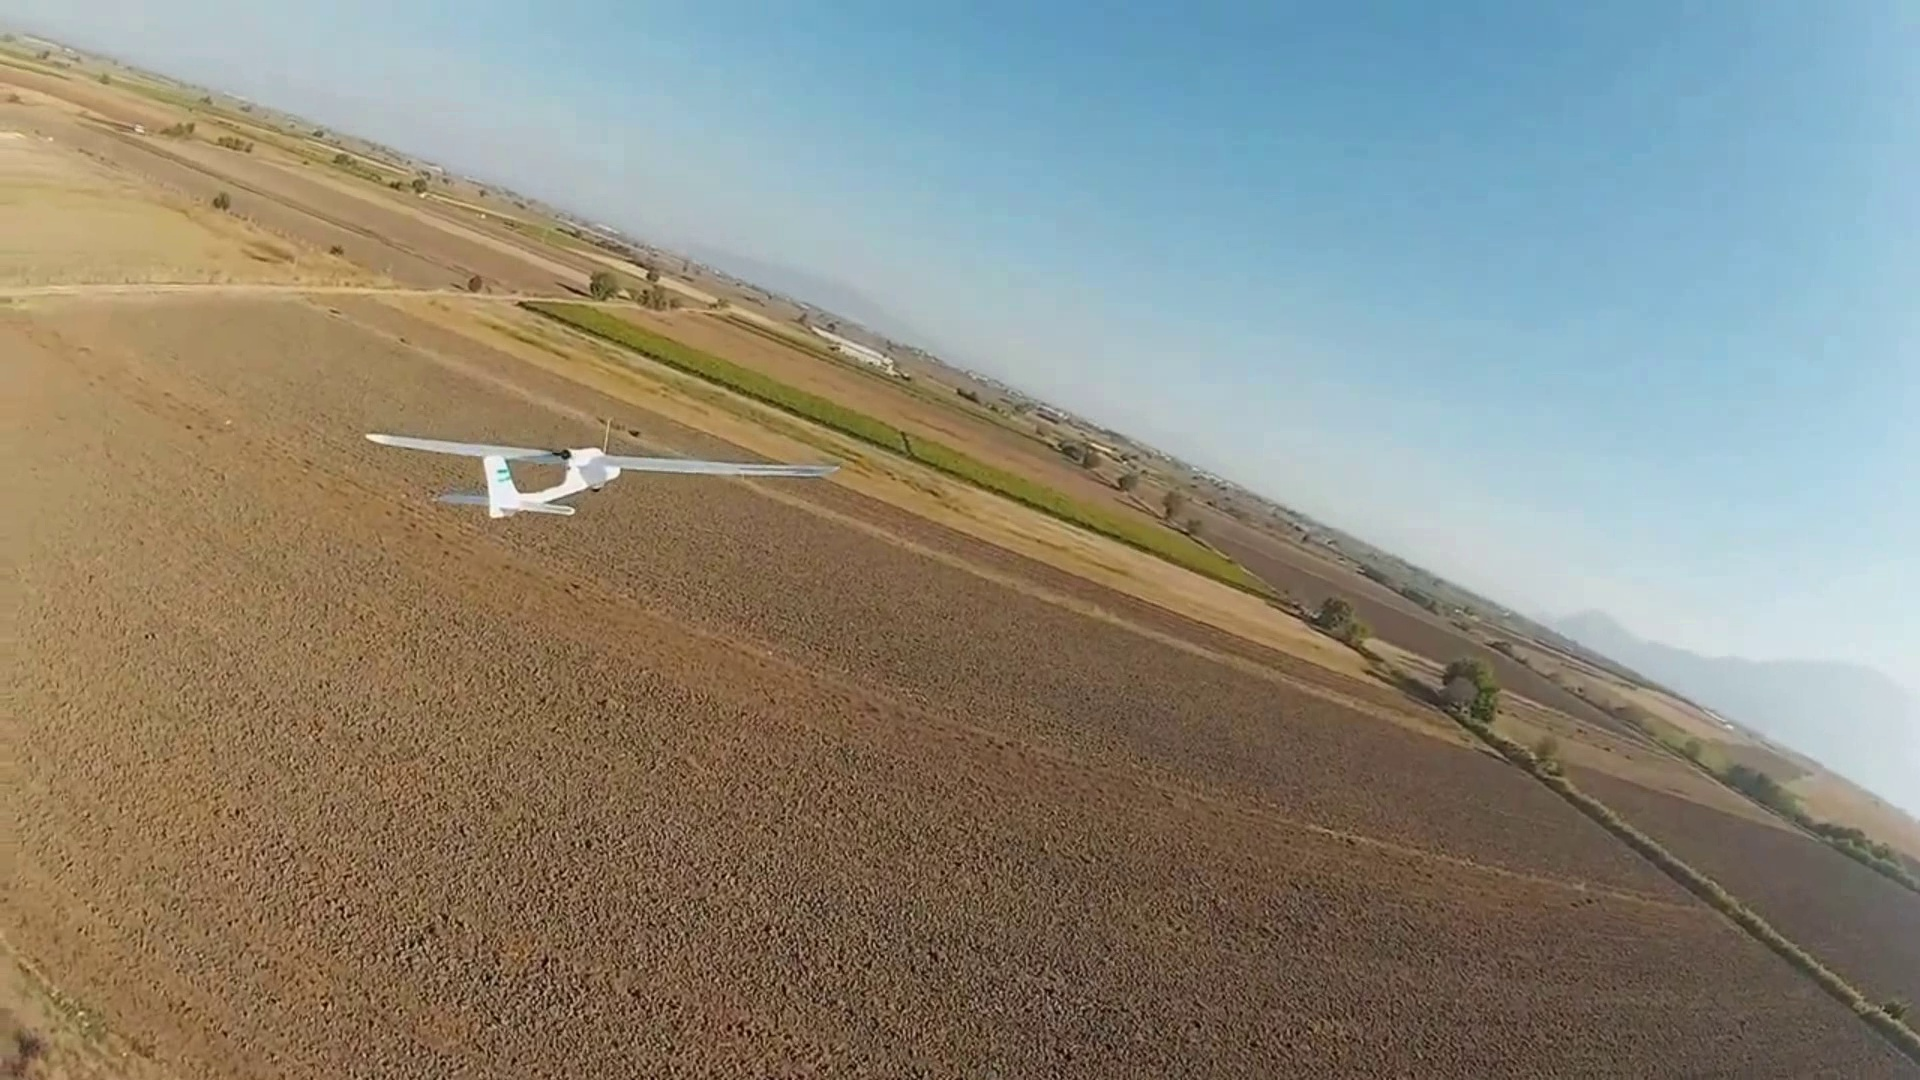airplane: (365, 431, 626, 520)
